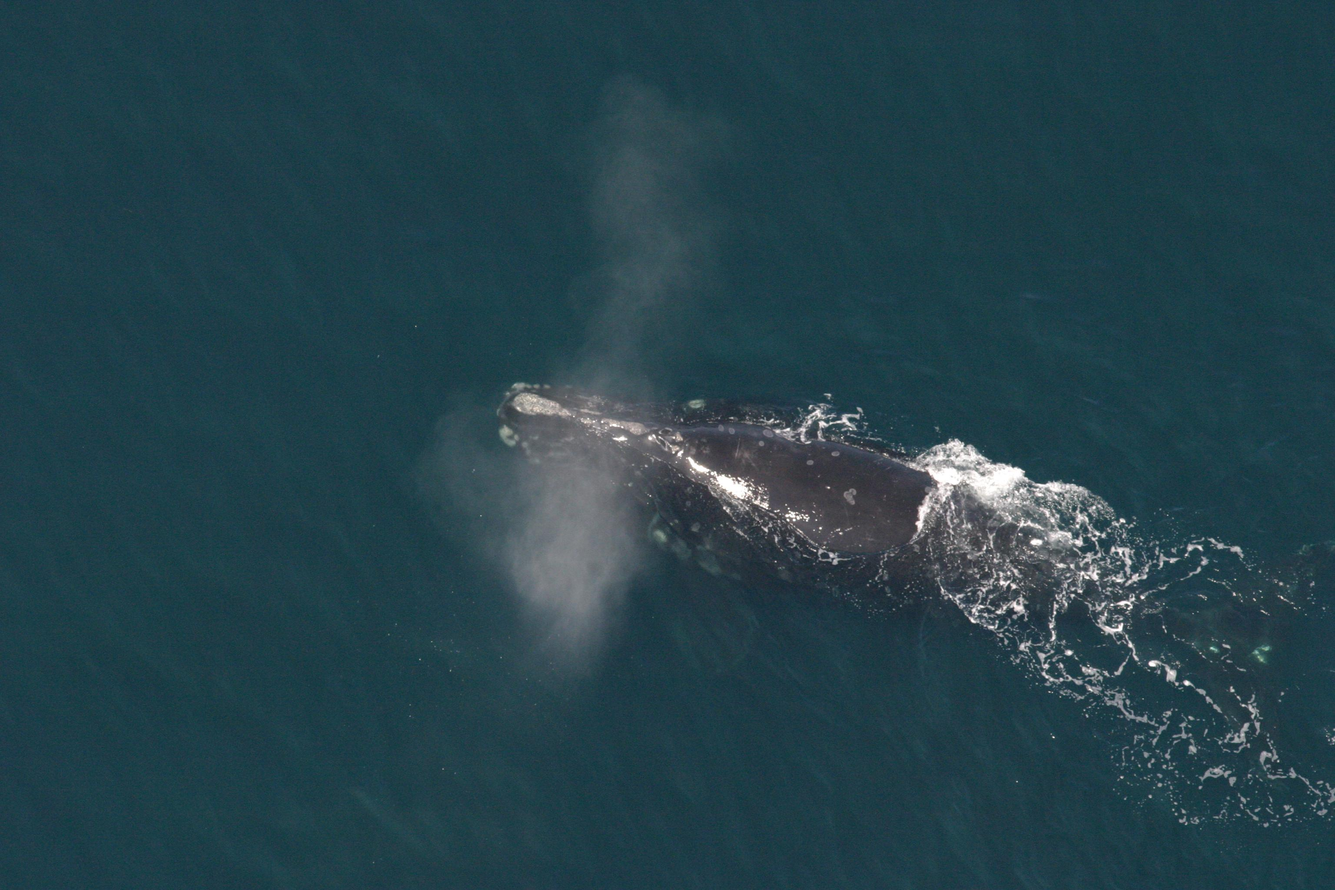whale: (488, 371, 1335, 757)
